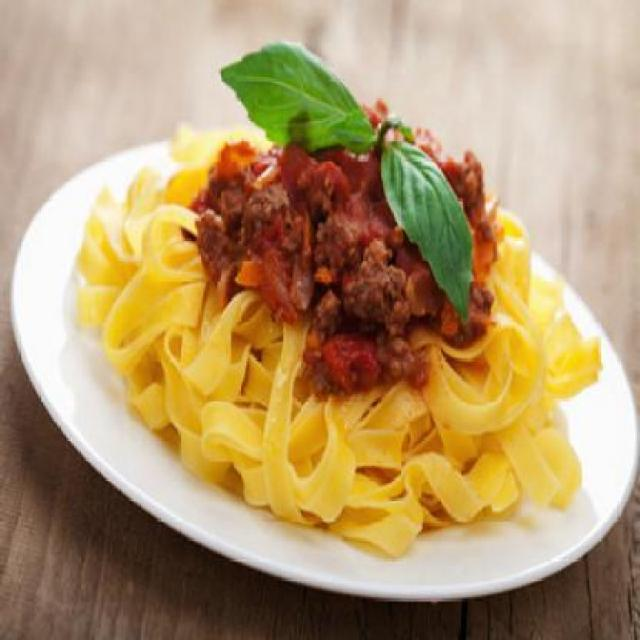Pasta al ragu: (78, 28, 607, 564)
